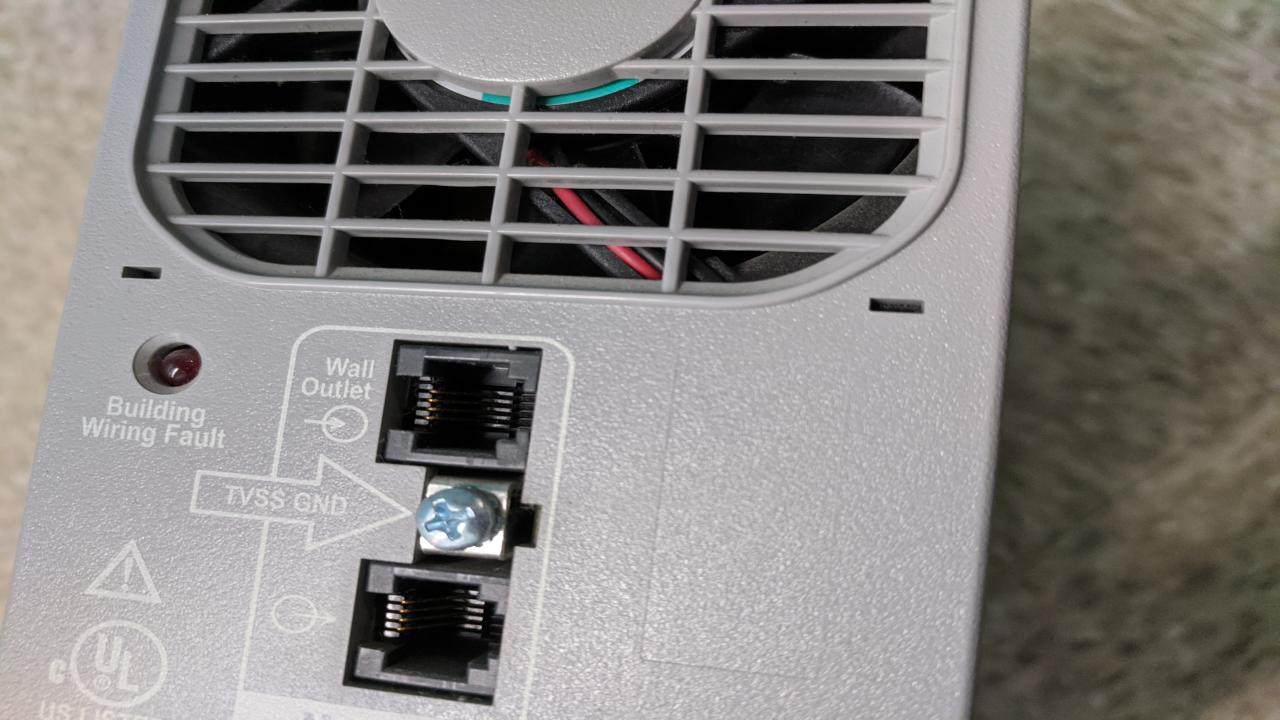CRS: (415, 487, 508, 552)
